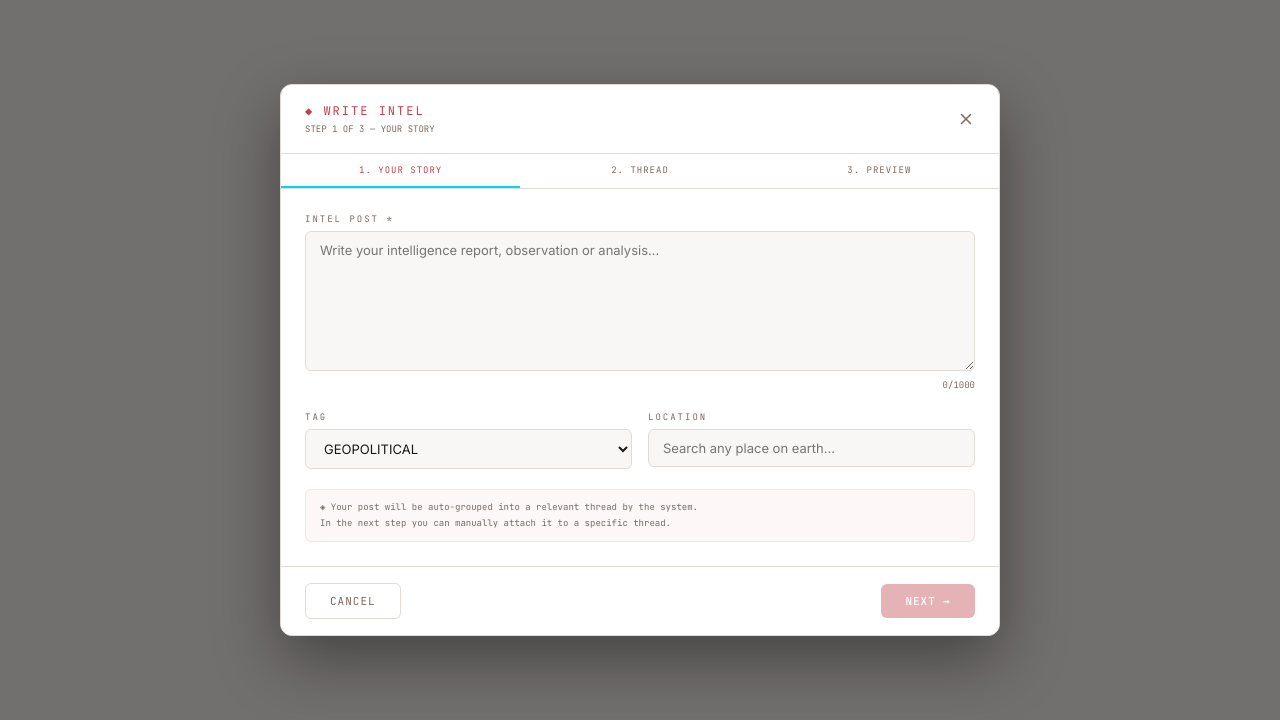
Test: StoryComposer › advances to step 3 and shows AI labels
The width and height of the screenshot is (1280, 720).
Type "Indian vessels spotted near Thailand" into the text box with placeholder "Write your intelligence report, observation or analysis..." at (640, 301), box [305,231,975,371]
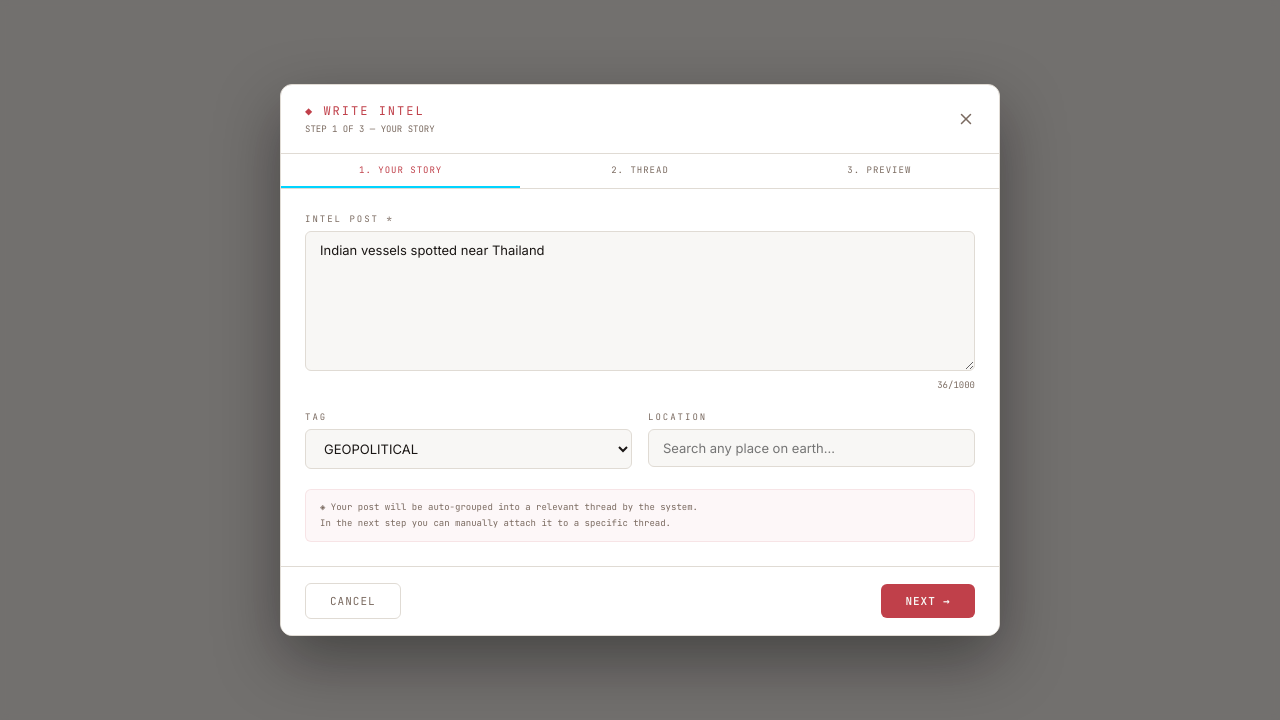
Click the button "NEXT →" at (928, 601), box [881,584,975,618]
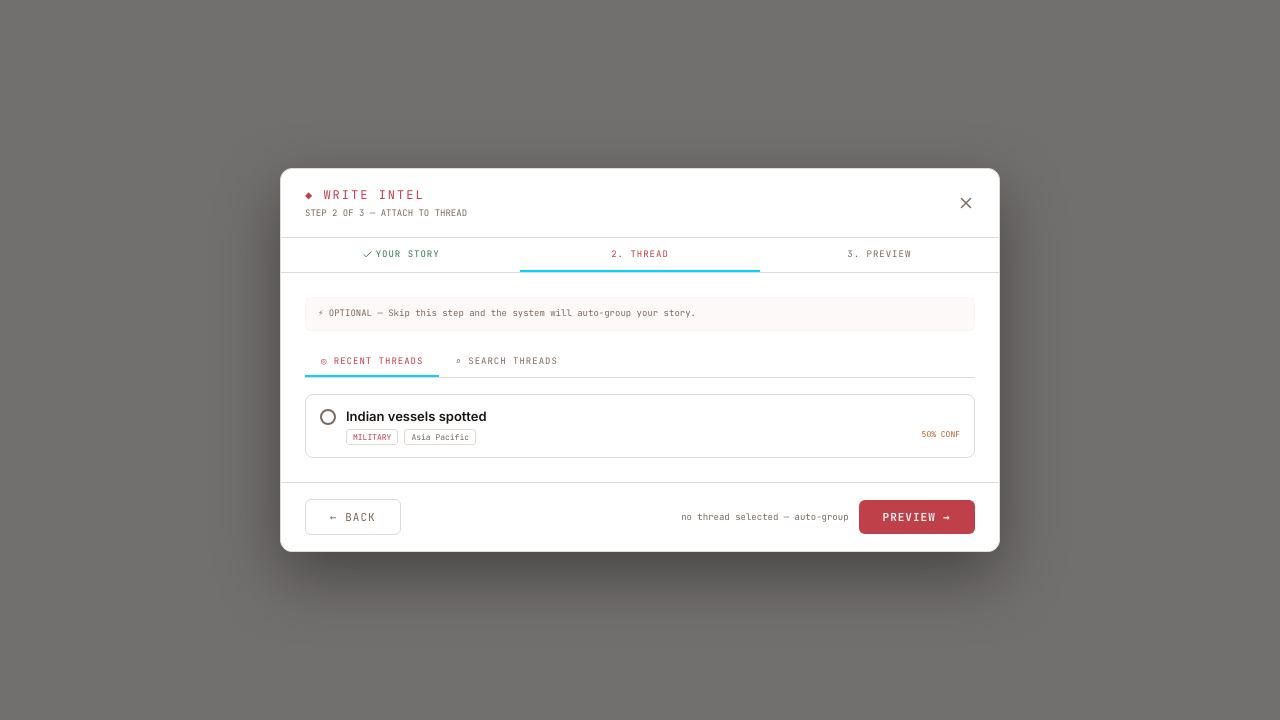
Now the text "STEP 2 OF 3 — ATTACH TO THREAD" is shown, box [305,207,467,219]
Click the button "PREVIEW →" at (917, 517), box [859,500,975,534]
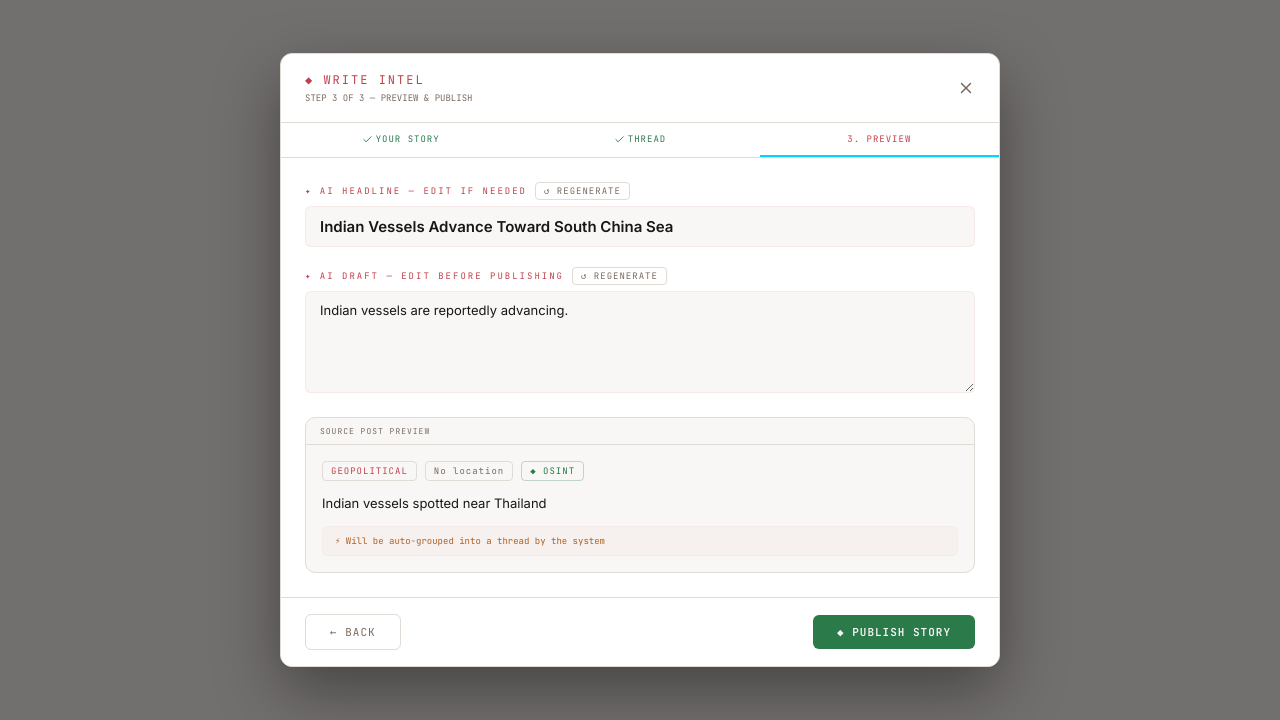
Now the text "✦ AI HEADLINE — EDIT IF NEEDED" is shown, box [305,185,527,197]
Now the text "✦ AI DRAFT — EDIT BEFORE PUBLISHING" is shown, box [305,270,564,282]
